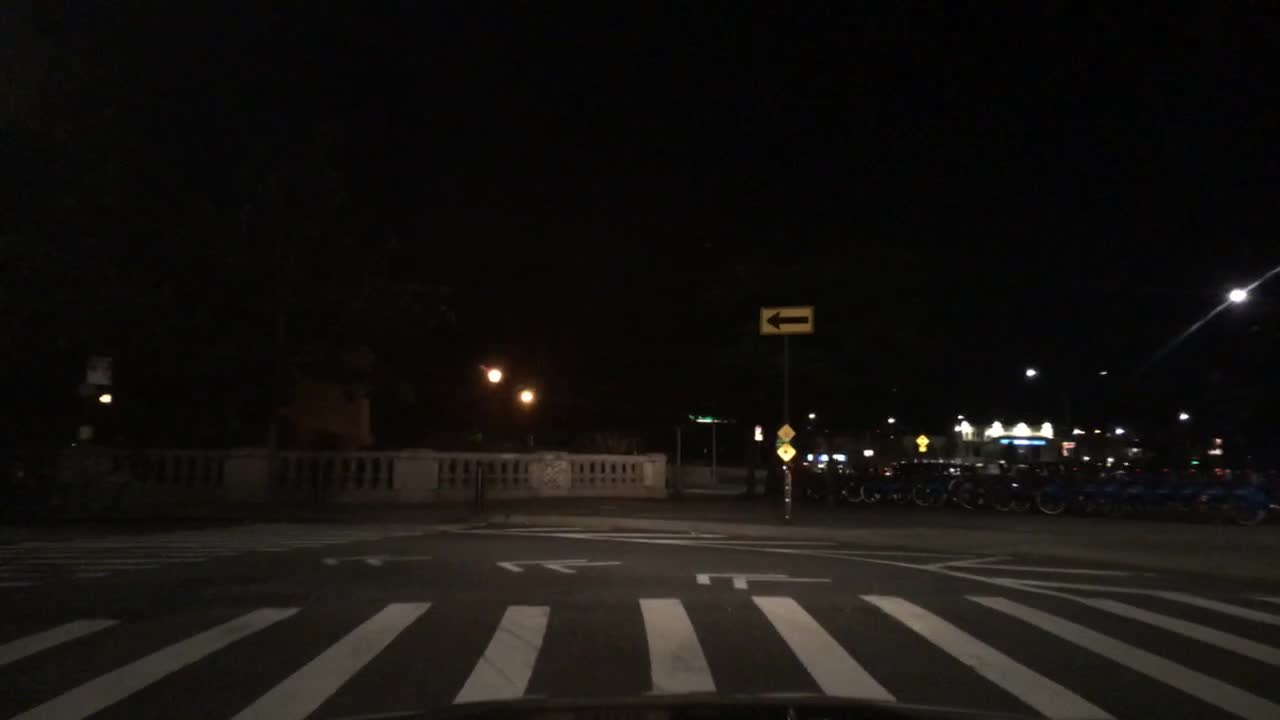bike: (1137, 461, 1215, 519), (1200, 463, 1270, 525), (1164, 465, 1238, 520), (1002, 460, 1073, 514), (1117, 460, 1181, 517), (1053, 458, 1113, 517), (1083, 458, 1144, 515), (965, 460, 1021, 514), (935, 460, 985, 514), (897, 465, 948, 514), (860, 460, 913, 507), (838, 468, 874, 503), (803, 467, 837, 499)
traffic sign: (756, 302, 816, 334), (86, 351, 108, 386), (773, 420, 796, 440), (776, 442, 794, 463), (913, 431, 930, 453)
